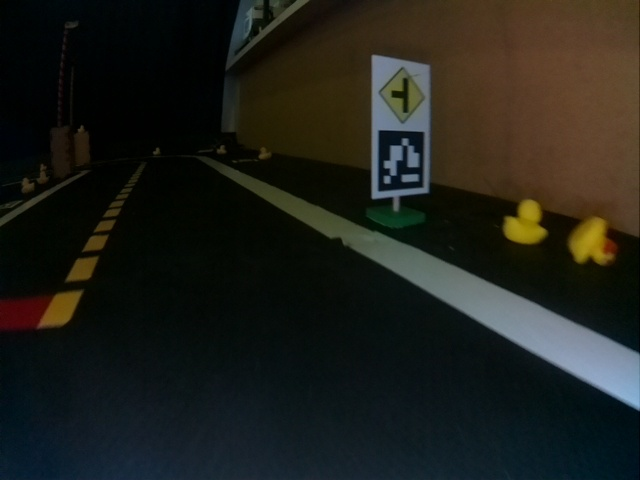Duckie: (570, 218, 615, 265), (504, 201, 545, 240), (21, 179, 34, 192), (36, 172, 48, 182), (259, 148, 270, 158), (217, 145, 226, 154), (39, 163, 48, 172), (153, 147, 161, 156), (76, 125, 85, 133)
Intersection sign: (374, 61, 428, 125)
QR code: (374, 130, 427, 192)
